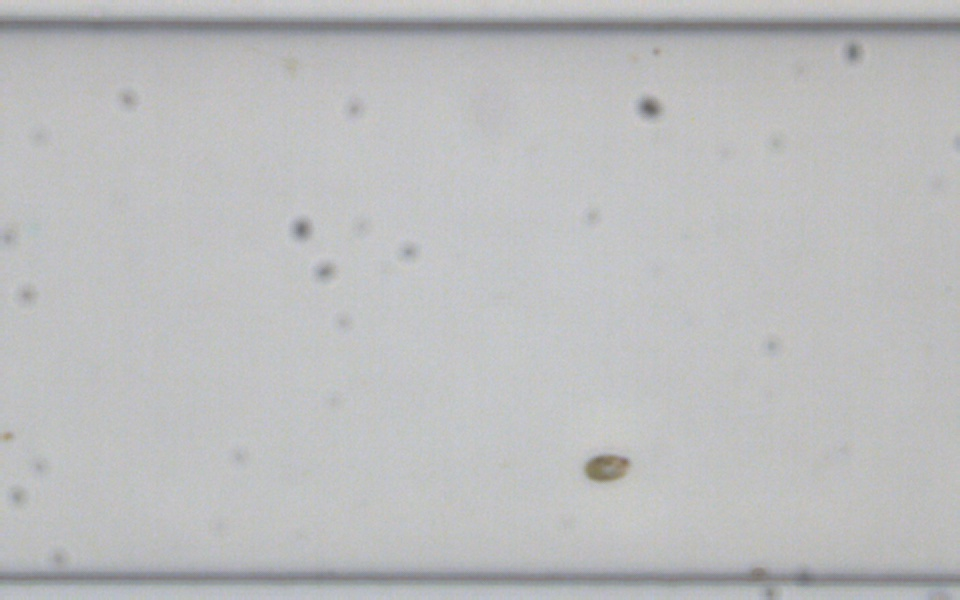Dunaliella salina: (581, 451, 632, 482)
